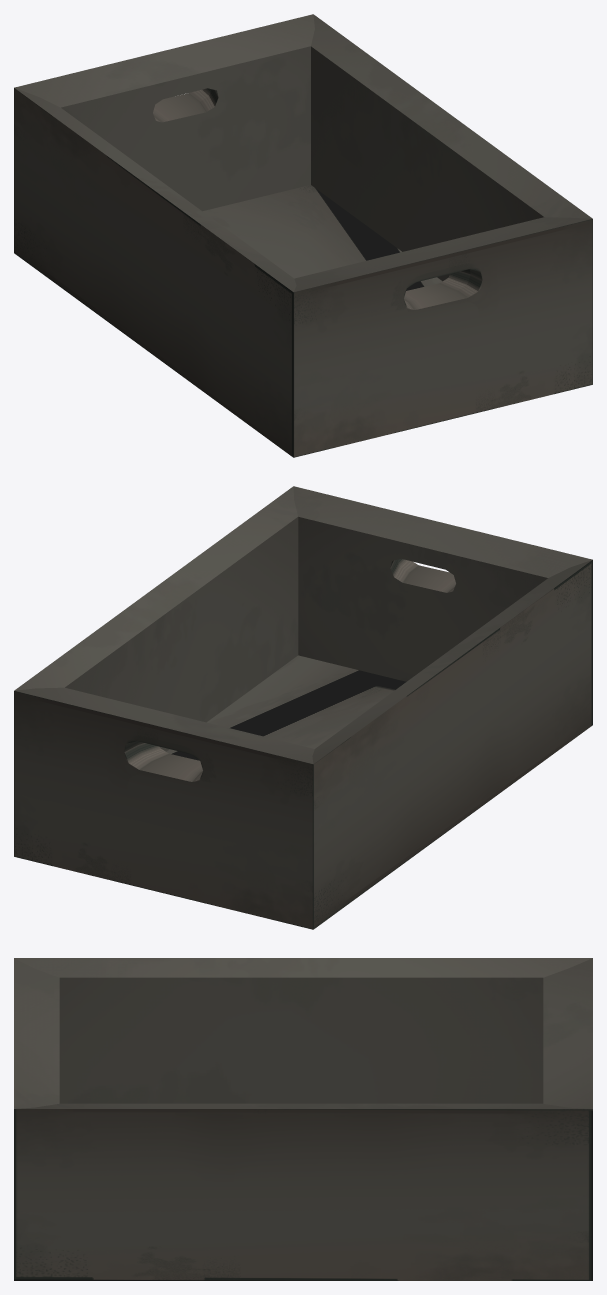
File: BoxOpened.fbx
The picture shows the model from 3 angles, top to bottom: view 1: azimuth 30°, elevation 25°; view 2: azimuth 150°, elevation 25°; view 3: azimuth 270°, elevation 25°; orthographic projection. The views are drawn at different scales.
Parts seen in each view (by area): view 1: BoxOpenedMesh; view 2: BoxOpenedMesh; view 3: BoxOpenedMesh.
Part boxes in pixels (x1,y1,x2,y2): BoxOpenedMesh: [14, 14, 592, 457]; BoxOpenedMesh: [14, 486, 592, 929]; BoxOpenedMesh: [14, 958, 592, 1280].
Bounding box in the file's own units: 41.54 × 22 × 67.17.
1 material, 1 textured.
